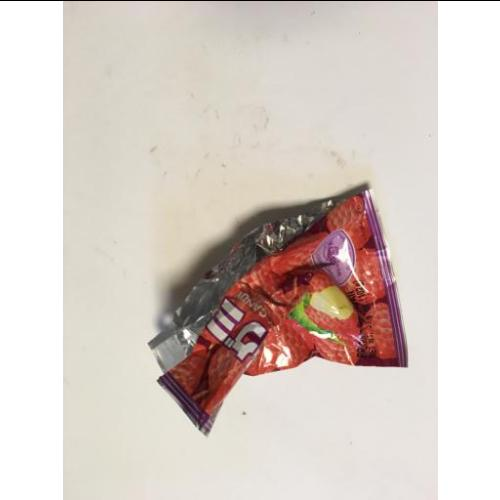plastic: (148, 182, 409, 437)
